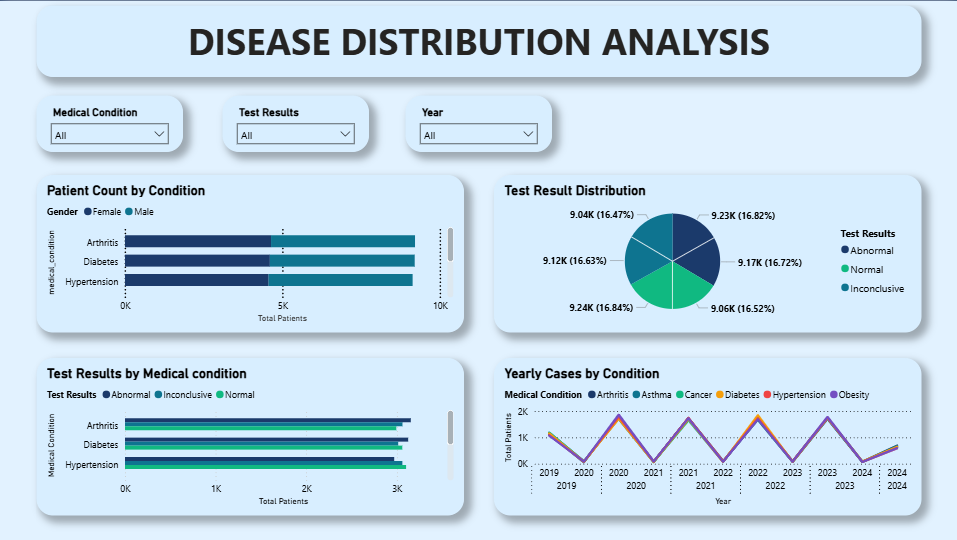

Layout of this report page (visuals, bound fields, positions):
{"tool":"powerbi","page":{"name":"Page 3","canvas":[1280,720],"ordinal":2},"visuals":[{"type":"clusteredBarChart","title":"Test Results by Medical condition","fields":{"Category":["healthcare_final_clean.medical_condition"],"Y":["healthcare_final_clean.Total Patients"],"Series":["healthcare_final_clean.test_results"]},"box":[50,475,570,210],"z":0},{"type":"slicer","fields":{"Values":["healthcare_final_clean.medical_condition"]},"box":[50,125,195,75],"z":1000},{"type":"slicer","fields":{"Values":["healthcare_final_clean.test_results"]},"box":[297.5,125,195,75],"z":2000},{"type":"slicer","fields":{"Values":["healthcare_final_clean.discharge_date.Variation.Date Hierarchy.Year","healthcare_final_clean.discharge_date.Variation.Date Hierarchy.Quarter","healthcare_final_clean.discharge_date.Variation.Date Hierarchy.Month","healthcare_final_clean.discharge_date.Variation.Date Hierarchy.Day"]},"box":[542.5,125,195,75],"z":3000},{"type":"barChart","title":"Patient Count by Condition","fields":{"Category":["healthcare_final_clean.medical_condition"],"Y":["healthcare_final_clean.Total Patients"],"Series":["healthcare_final_clean.gender"]},"box":[50,232.5,570,210],"z":4000},{"type":"lineChart","title":"Yearly Cases by Condition","fields":{"Y":["healthcare_final_clean.Total Patients"],"Category":["healthcare_final_clean.admission_date.Variation.Date Hierarchy.Year","healthcare_final_clean.discharge_date.Variation.Date Hierarchy.Year"],"Series":["healthcare_final_clean.medical_condition"]},"box":[660,475,570,210],"z":5000},{"type":"pieChart","title":"Test Result Distribution","fields":{"Y":["healthcare_final_clean.Total Patients"],"Series":["healthcare_final_clean.gender"],"Category":["healthcare_final_clean.test_results"]},"box":[660,232.5,570,210],"z":6000},{"type":"textbox","box":[50,5,1180,95],"z":7000}]}

Visuals, with their boxes in screenshot pixels (x1, y1, x2, y2), scaled from the page's 1280x720 canvas onto the 957x540 screenshot:
"Test Results by Medical condition" clusteredBarChart: detection(37, 356, 464, 514)
slicer - healthcare_final_clean.medical_condition: detection(37, 94, 183, 150)
slicer - healthcare_final_clean.test_results: detection(222, 94, 368, 150)
slicer - healthcare_final_clean.discharge_date.Variation.Date Hierarchy.Year x healthcare_final_clean.discharge_date.Variation.Date Hierarchy.Quarter: detection(406, 94, 551, 150)
"Patient Count by Condition" barChart: detection(37, 174, 464, 332)
"Yearly Cases by Condition" lineChart: detection(493, 356, 920, 514)
"Test Result Distribution" pieChart: detection(493, 174, 920, 332)
textbox: detection(37, 4, 920, 75)
